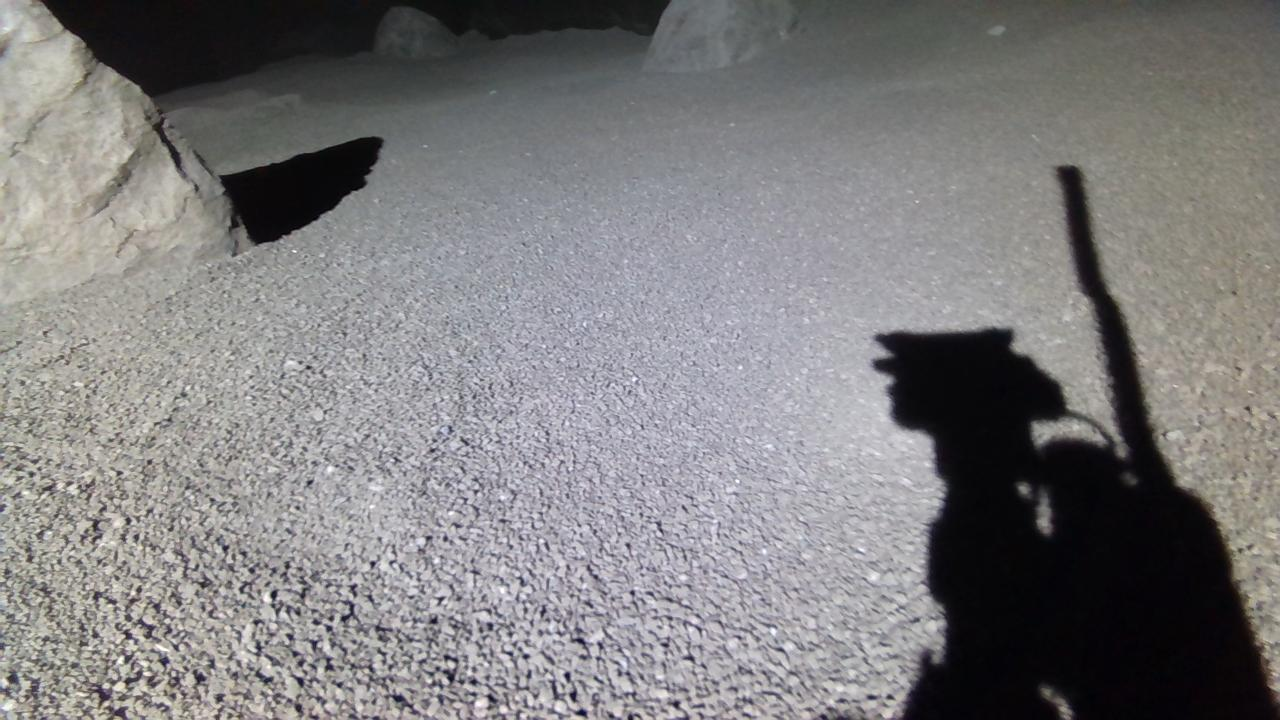rock: (0, 0, 248, 303), (643, 0, 798, 70), (373, 5, 459, 56)
